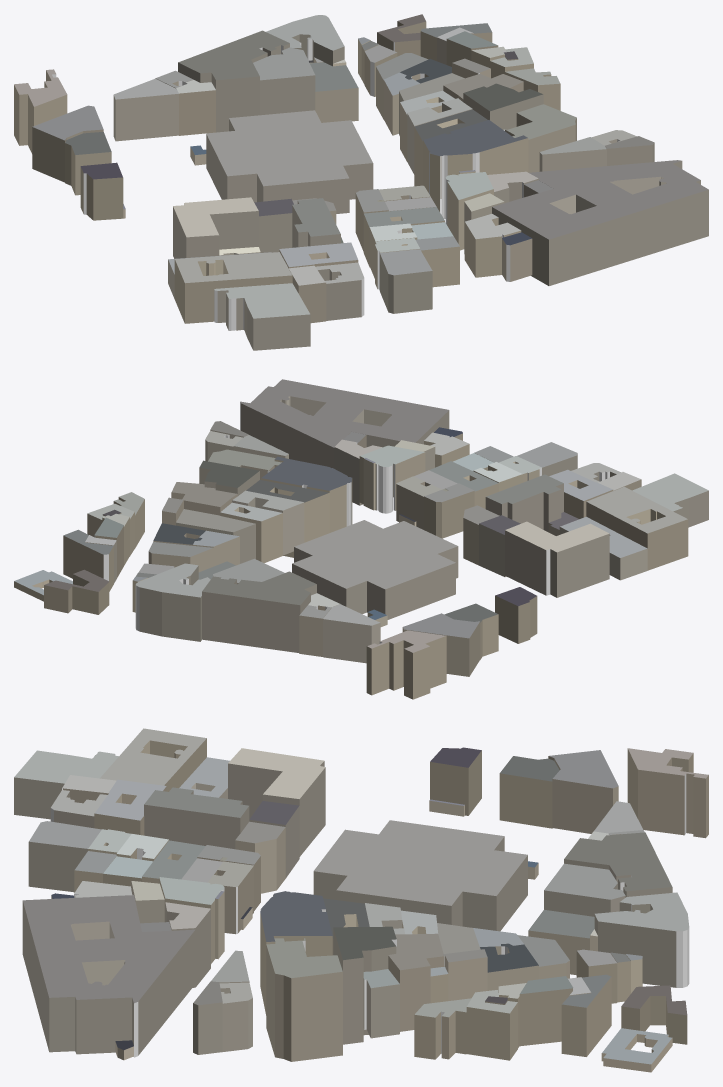
3 views of the same model, one above another, from view 1: azimuth 30°, elevation 25°; view 2: azimuth 150°, elevation 25°; view 3: azimuth 270°, elevation 25° (orthographic). The views are drawn at different scales.
Visible parts, largest first — view 1: tuile; view 2: tuile; view 3: tuile.
Part boxes in pixels (<box>): tuile: <box>14,14,708,350</box>; tuile: <box>14,379,708,699</box>; tuile: <box>14,728,708,1072</box>.
Size of the model in its own units: 288 by 43.24 by 286.
